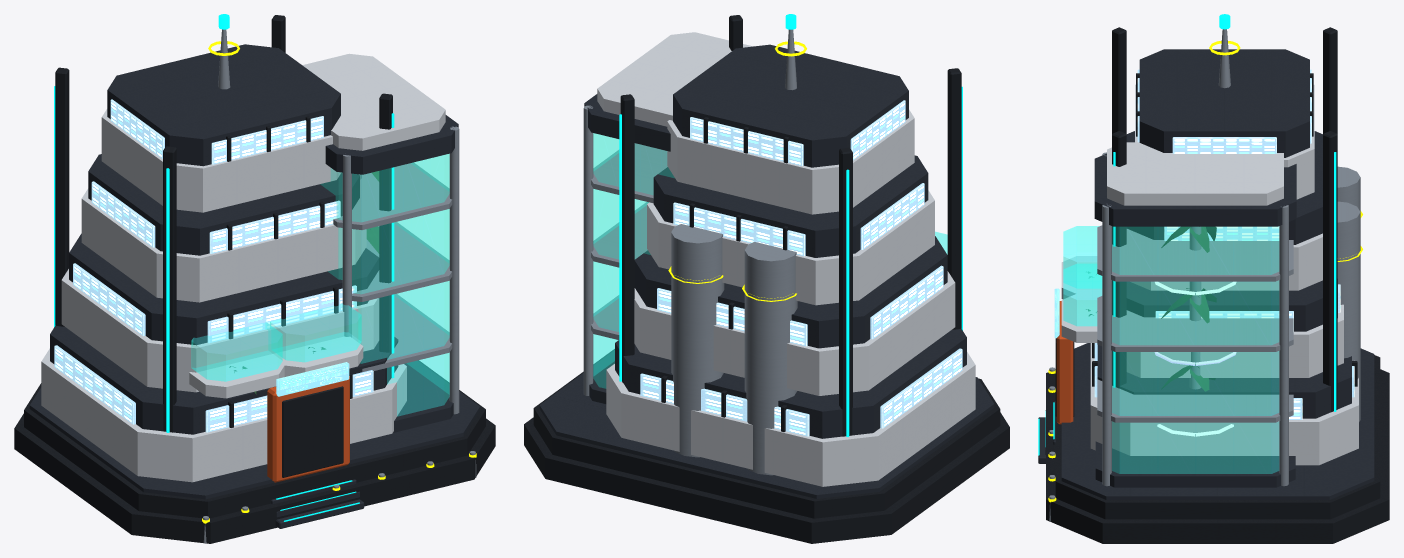
The model's file is bldg_03_r1_04.glb.
3 renders of one model, left to right at view 1: azimuth 30°, elevation 25°; view 2: azimuth 150°, elevation 25°; view 3: azimuth 270°, elevation 25°, orthographic. The views are drawn at different scales.
Parts seen in each view (by area): view 1: Bldg03_C04_aero_white, Bldg03_C04_carbon_slate, Bldg03_C04_gunmetal, Bldg03_C04_glass_emerald, Bldg03_C04_window_lit, Bldg03_C04_steel_machined, Bldg03_C04_led_cyan, Bldg03_C04_accent_orange, Bldg03_C04_marquee; view 2: Bldg03_C04_aero_white, Bldg03_C04_carbon_slate, Bldg03_C04_gunmetal, Bldg03_C04_steel_machined, Bldg03_C04_window_lit, Bldg03_C04_glass_emerald, Bldg03_C04_led_cyan; view 3: Bldg03_C04_carbon_slate, Bldg03_C04_glass_emerald, Bldg03_C04_aero_white, Bldg03_C04_steel_machined, Bldg03_C04_gunmetal, Bldg03_C04_window_lit, Bldg03_C04_accent_orange, Bldg03_C04_foliage, Bldg03_C04_led_cyan, Bldg03_C04_led_ice, Bldg03_C04_led_amber.
Boxes of the visible parts, box(x1,y1,x2,y2) form: Bldg03_C04_aero_white: box(41, 53, 445, 482); Bldg03_C04_carbon_slate: box(29, 44, 480, 528); Bldg03_C04_gunmetal: box(14, 15, 495, 543); Bldg03_C04_glass_emerald: box(191, 154, 449, 416); Bldg03_C04_window_lit: box(54, 99, 373, 432); Bldg03_C04_steel_machined: box(203, 29, 476, 543); Bldg03_C04_led_cyan: box(54, 14, 394, 521); Bldg03_C04_accent_orange: box(267, 376, 349, 482); Bldg03_C04_marquee: box(276, 362, 349, 396); Bldg03_C04_aero_white: box(597, 32, 975, 486); Bldg03_C04_carbon_slate: box(539, 44, 994, 498); Bldg03_C04_gunmetal: box(524, 15, 1009, 543); Bldg03_C04_steel_machined: box(583, 29, 797, 475); Bldg03_C04_window_lit: box(640, 100, 962, 436); Bldg03_C04_glass_emerald: box(593, 133, 947, 388); Bldg03_C04_led_cyan: box(619, 14, 962, 436); Bldg03_C04_carbon_slate: box(1038, 49, 1374, 499); Bldg03_C04_glass_emerald: box(1063, 226, 1278, 473); Bldg03_C04_aero_white: box(1061, 84, 1358, 465); Bldg03_C04_steel_machined: box(1049, 29, 1360, 521); Bldg03_C04_gunmetal: box(1046, 27, 1389, 543); Bldg03_C04_window_lit: box(1094, 69, 1354, 419); Bldg03_C04_accent_orange: box(1056, 301, 1073, 424); Bldg03_C04_foliage: box(1086, 226, 1216, 391); Bldg03_C04_led_cyan: box(1038, 14, 1336, 455); Bldg03_C04_led_ice: box(1155, 281, 1236, 436); Bldg03_C04_led_amber: box(1048, 41, 1362, 502).
Bounding box in the file's own units: 12 × 13.73 × 10.23.
Materials: 14 (14 with a texture image).
